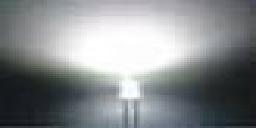LED: (116, 75, 148, 128)
